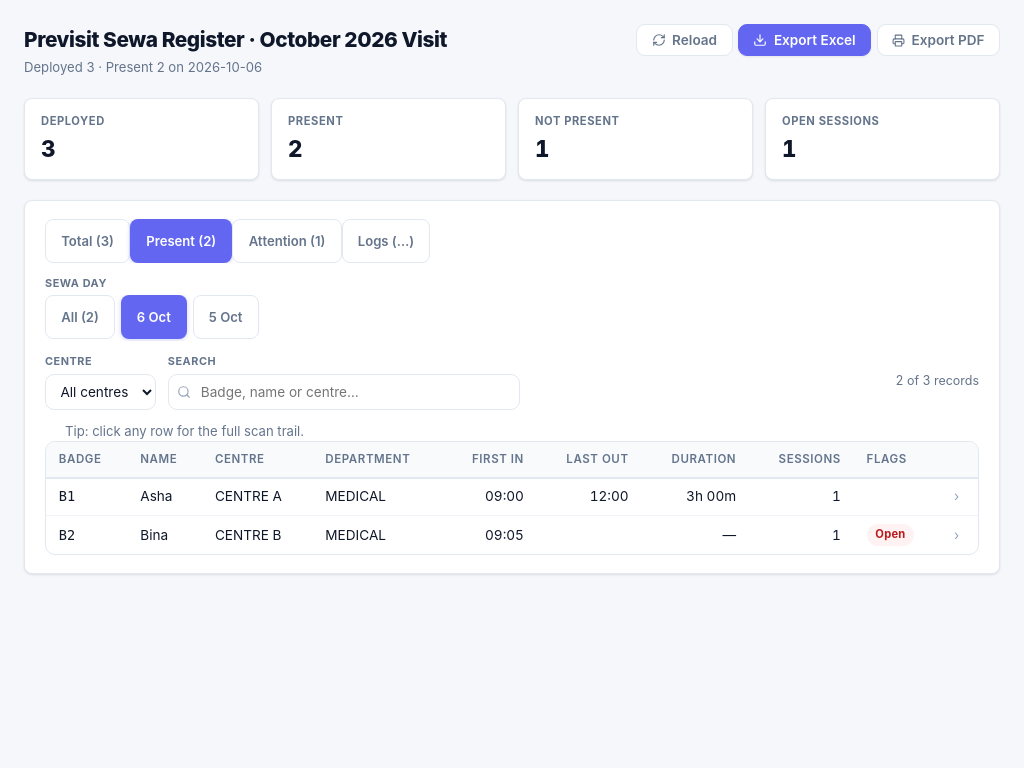
Test: PrevisitView › replaces the department dropdown with a centre filter that narrows the rows
Expected: the text "Asha" is shown, [128, 478, 202, 516]
Expected: the text "Bina" is shown, [128, 516, 202, 554]
Select "CENTRE A" in the dropdown named "Centre filter". click: (100, 392)
box: [45, 374, 156, 410]
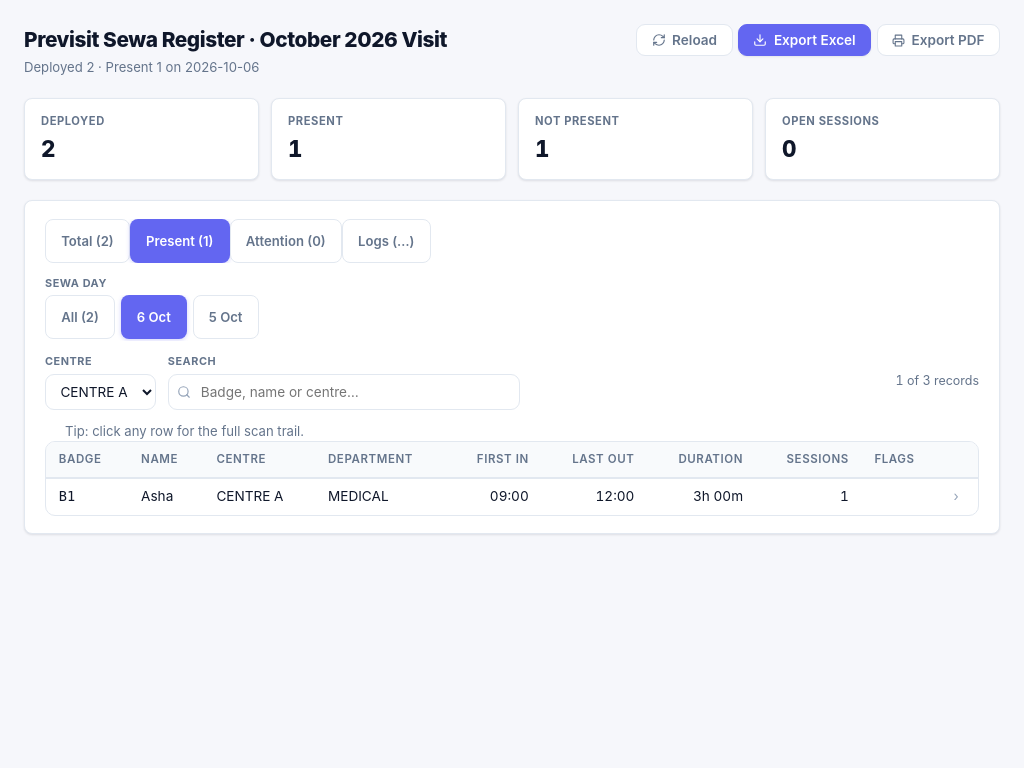
Expected: the text "Asha" is shown, [128, 478, 204, 515]
Result: the button "Bina" is gone
Select "CENTRE B" in the dropdown named "Centre filter". click: (100, 392)
box: [45, 374, 156, 410]
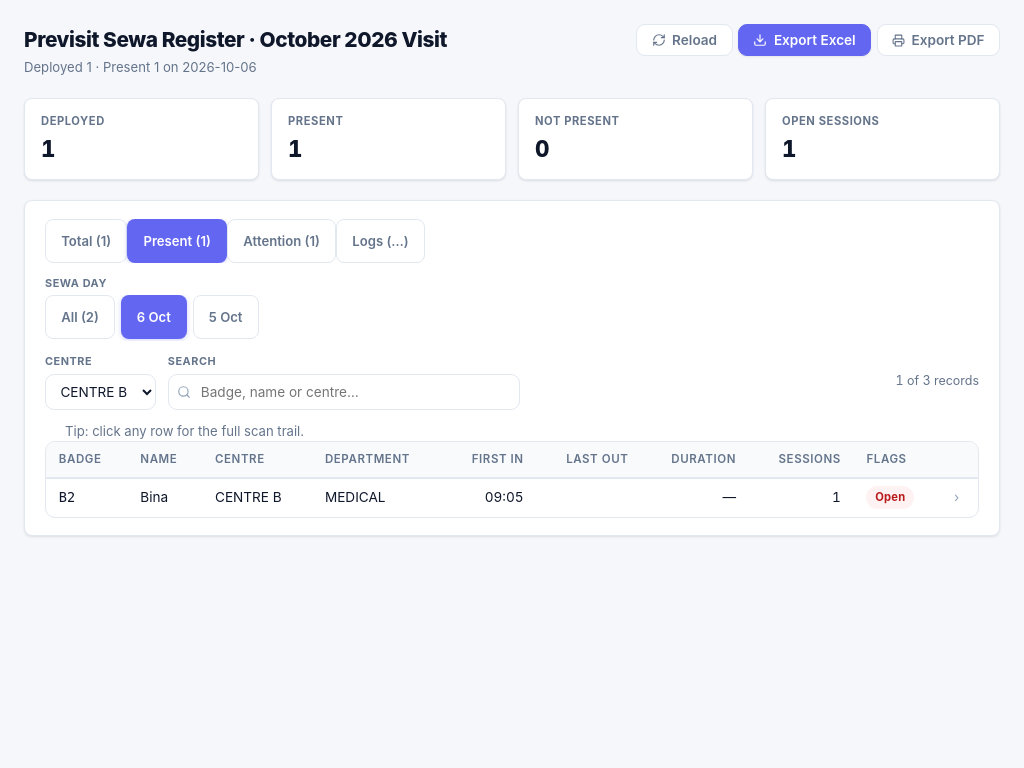
Result: the button "Asha" is gone
Result: the text "Bina" is shown at [128, 478, 202, 517]
Type "asha" into the field named "Search previsit rows". click: (344, 392)
box: [168, 374, 520, 410]
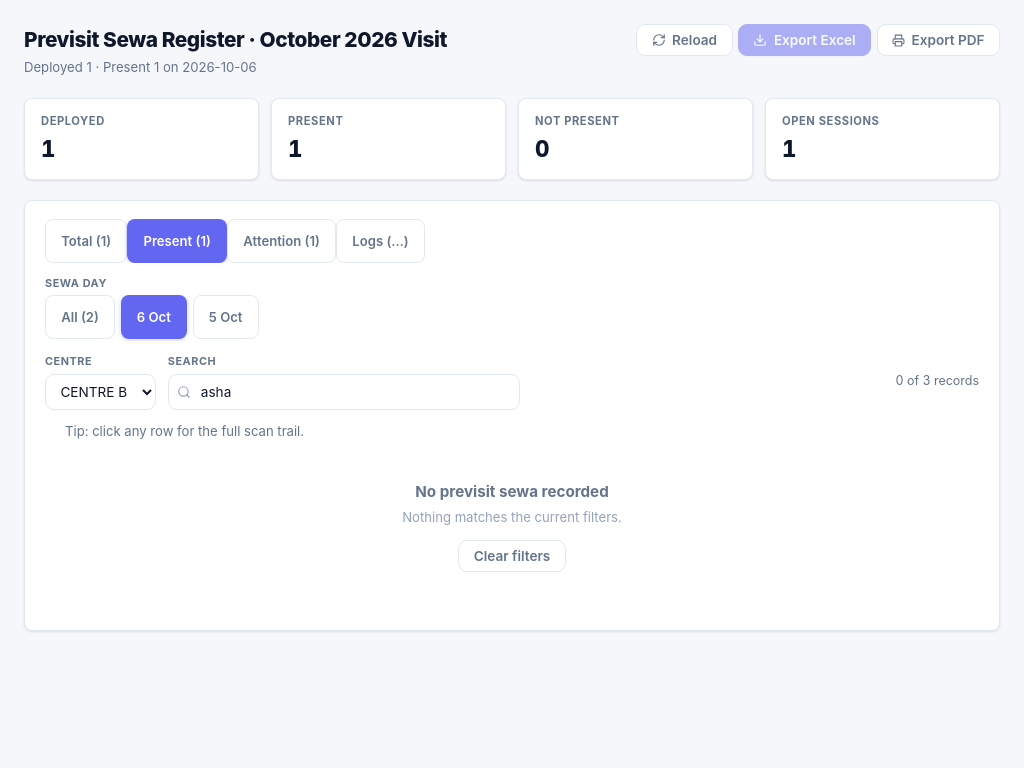
Result: the text "Nothing matches the current filters." is shown at [402, 509, 622, 525]
Click the button "Clear filters". click: (512, 556)
box: [458, 540, 566, 572]
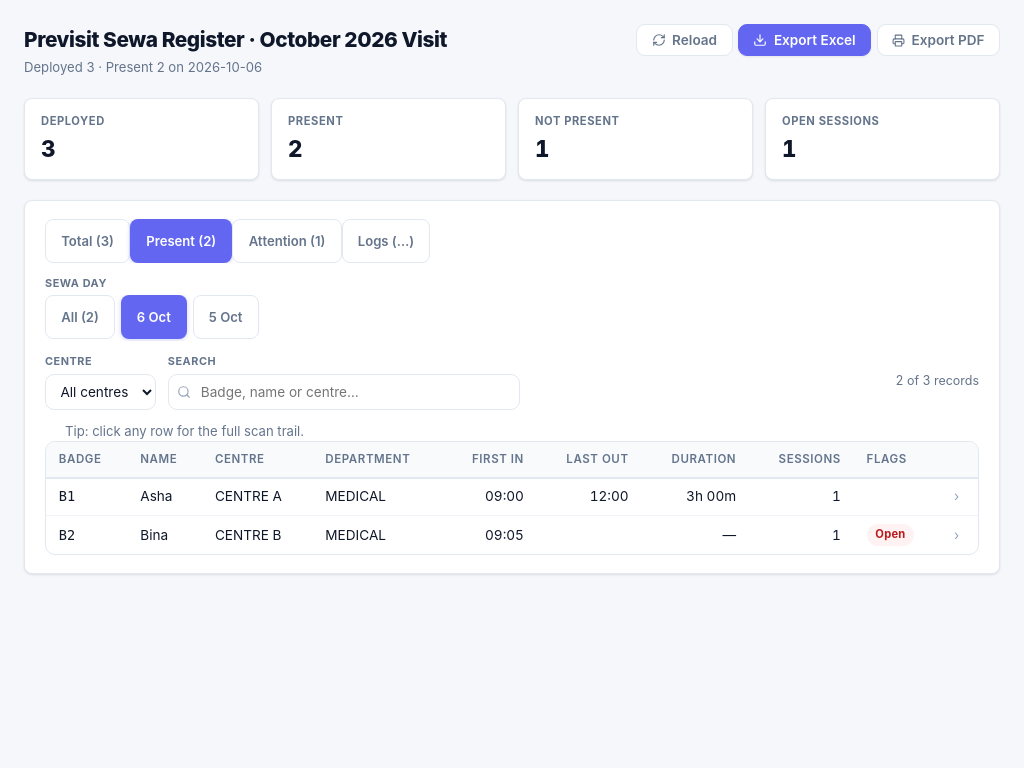
Result: the text "Asha" is shown at [128, 478, 202, 516]
